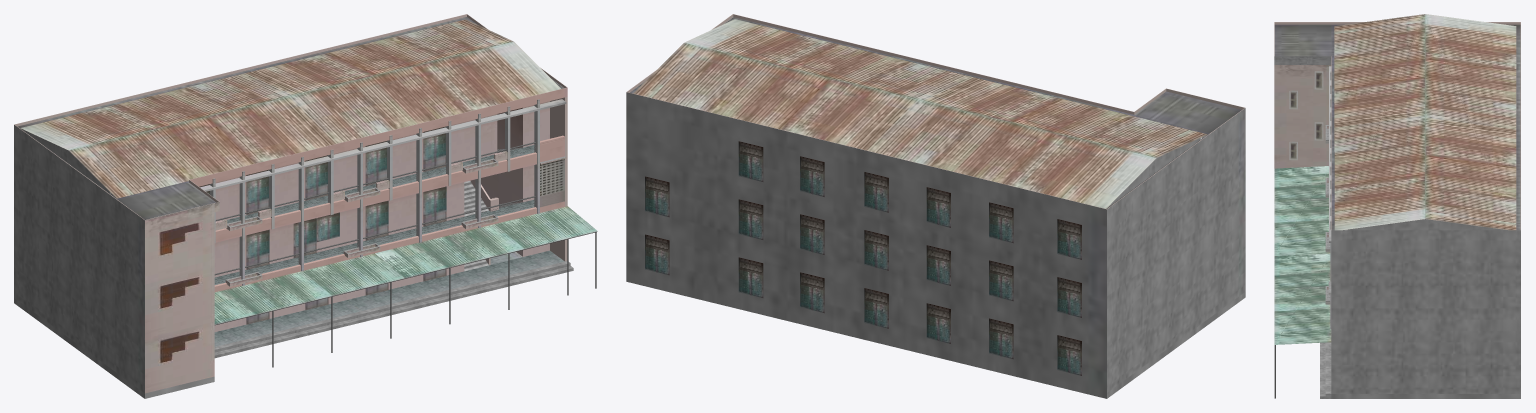
3 renders of one model, left to right at view 1: azimuth 30°, elevation 25°; view 2: azimuth 150°, elevation 25°; view 3: azimuth 270°, elevation 25°, orthographic. The views are drawn at different scales.
Visible parts, largest first — view 1: DN06_BQLCacDuAnPhatTrienDoThi_jpg.001; view 2: DN06_BQLCacDuAnPhatTrienDoThi_jpg.001; view 3: DN06_BQLCacDuAnPhatTrienDoThi_jpg.001.
Boxes of the visible parts, bbox=[...] form: DN06_BQLCacDuAnPhatTrienDoThi_jpg.001: bbox=[14, 14, 597, 398]; DN06_BQLCacDuAnPhatTrienDoThi_jpg.001: bbox=[626, 14, 1245, 398]; DN06_BQLCacDuAnPhatTrienDoThi_jpg.001: bbox=[1274, 14, 1520, 398].
Size of the model in its own units: 26 by 10.37 by 13.03.
1 material, 1 textured.
